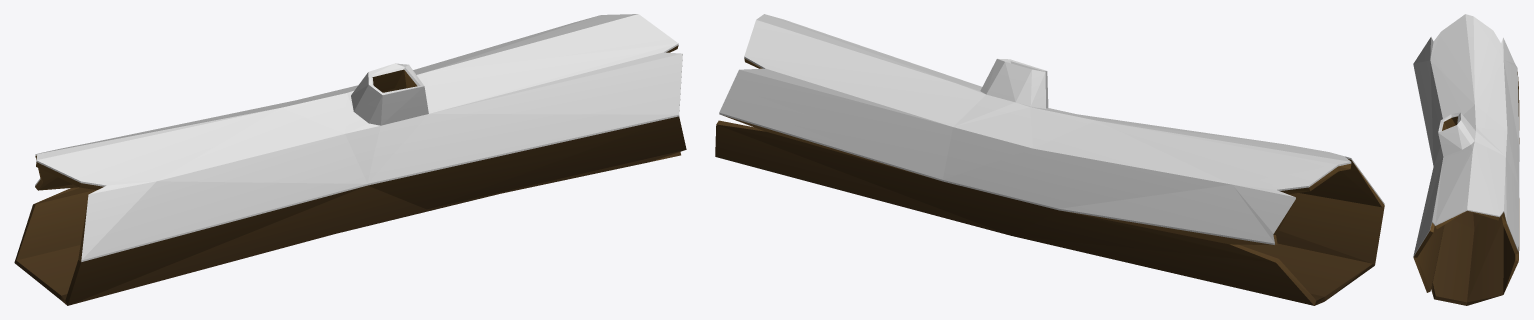
File: Winter_Log_01.glb
3 views of the same model, side by side, from view 1: azimuth 30°, elevation 25°; view 2: azimuth 150°, elevation 25°; view 3: azimuth 270°, elevation 25° (orthographic). The views are drawn at different scales.
Parts seen in each view (by area): view 1: Winter_Log_01_LOD0; view 2: Winter_Log_01_LOD0; view 3: Winter_Log_01_LOD0.
Boxes of the visible parts, x1,y1,x2,y2 form: Winter_Log_01_LOD0: (14, 14, 686, 305); Winter_Log_01_LOD0: (715, 14, 1384, 305); Winter_Log_01_LOD0: (1413, 14, 1519, 305).
Size of what is drawn, in the model's own units: 1.7 by 0.4188 by 0.3803.
1 material, 1 textured.
